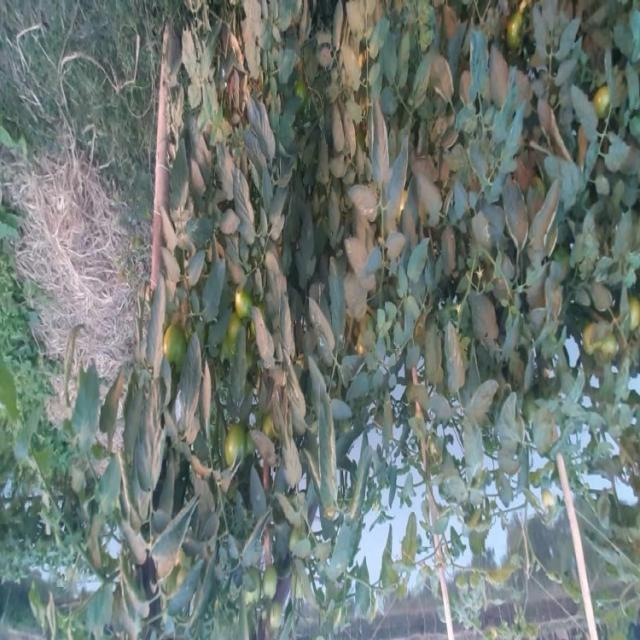tomato: (156, 324, 199, 372), (224, 283, 267, 323), (220, 415, 251, 462), (619, 288, 640, 339), (593, 86, 624, 119)
